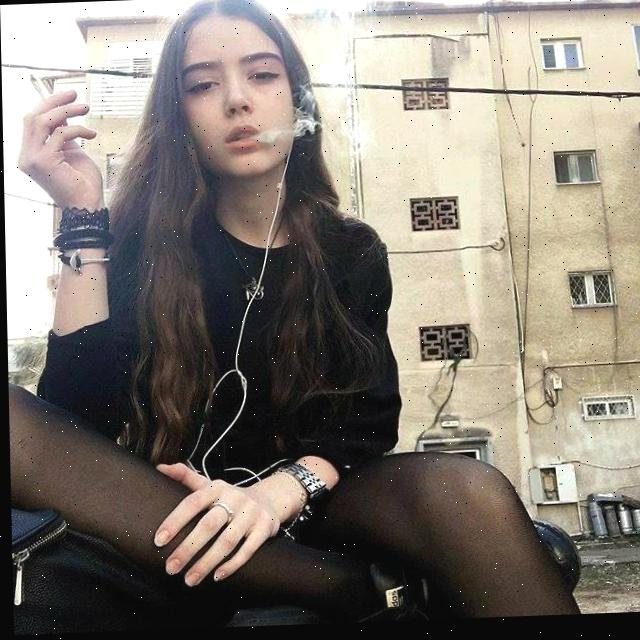cigarette: (29, 74, 46, 100)
